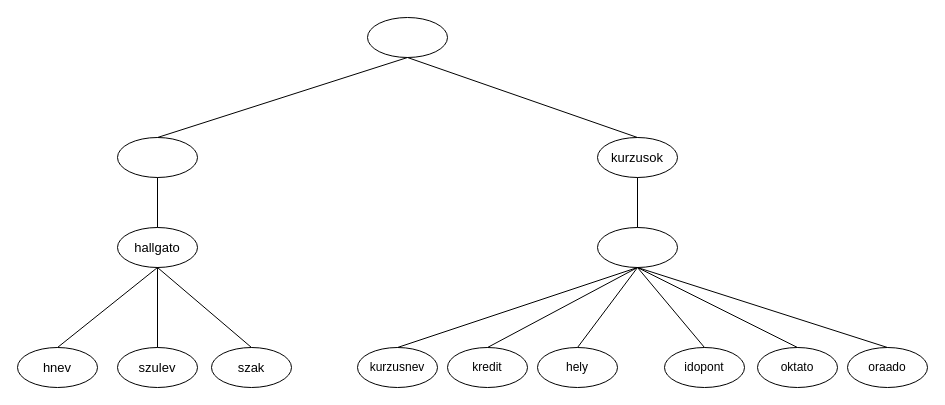
The diagram is 945 pixels wide and 405 high, and some of its shapes have lost their labels. The shapes that lost their labels are listed below. From the top down, each one's centre as x and y in pixels, then its label:
the point at 407,37: S7KTW0_kurzusfelvetel
the point at 157,157: hallgatok
the point at 637,247: kurzus
